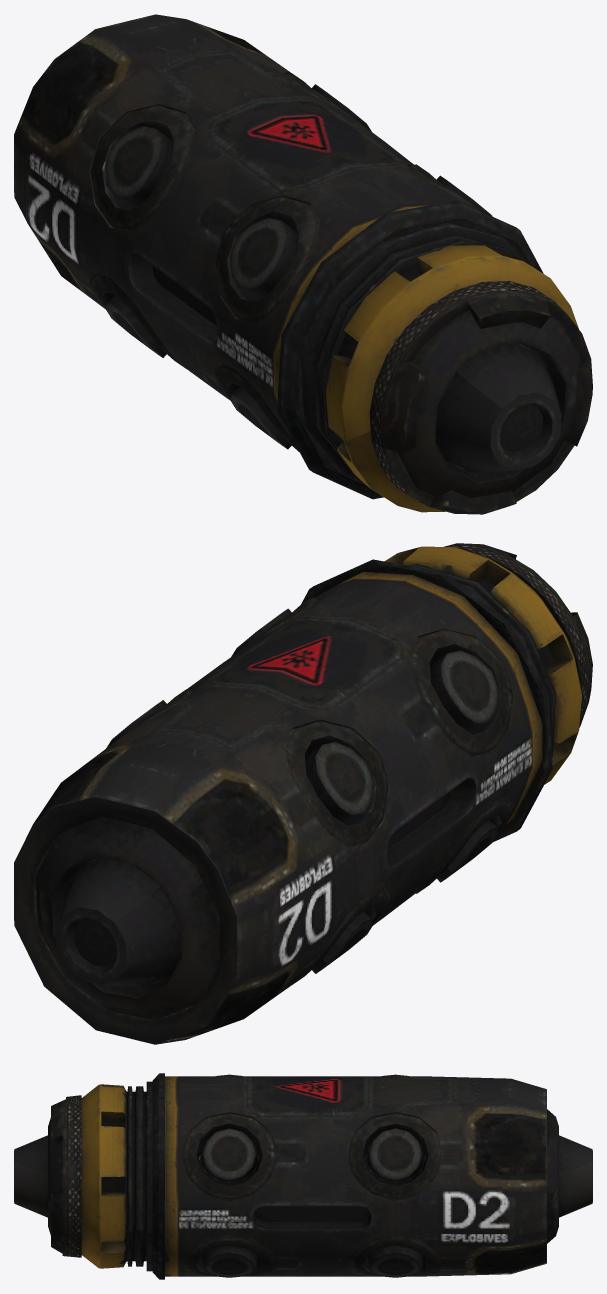
The model's file is npc_drone_explosive_main_LOD0.obj.
3 views of the same model, one above another, from view 1: azimuth 30°, elevation 25°; view 2: azimuth 150°, elevation 25°; view 3: azimuth 270°, elevation 25° (orthographic). The views are drawn at different scales.
Visible parts, largest first — view 1: m_mtl_drone_explosive_base; view 2: m_mtl_drone_explosive_base; view 3: m_mtl_drone_explosive_base.
Part boxes in pixels (x1,y1,x2,y2): m_mtl_drone_explosive_base: [14, 14, 592, 514]; m_mtl_drone_explosive_base: [14, 543, 592, 1044]; m_mtl_drone_explosive_base: [14, 1073, 592, 1279].
Bounding box in the file's own units: 6.04 × 6.04 × 16.79.
